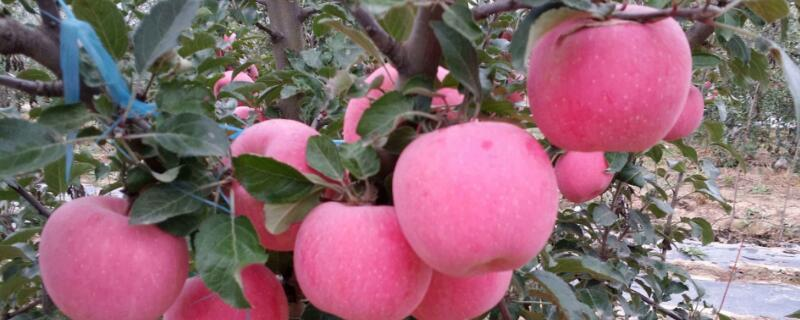apple: (391, 122, 559, 282), (522, 2, 693, 151), (37, 195, 190, 317), (224, 118, 351, 250), (293, 202, 434, 318), (553, 150, 615, 203)
